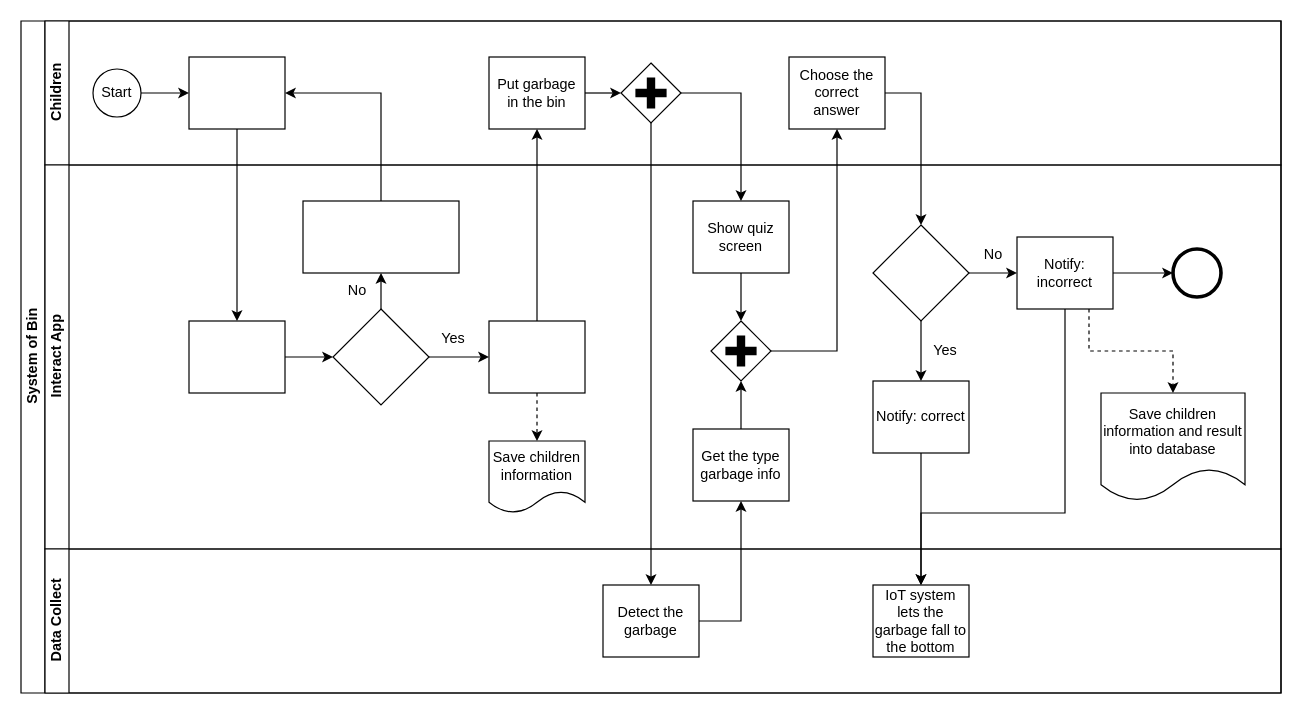
This 1302x714 diagram has some shape labels left out. Each missing label, with the centre of its shape:
Detect the face: the point at 236,356
End: the point at 1196,272
is correct answer?: the point at 920,272
Notify detect successfully: the point at 536,356
Notify: detect unsuccessfully: the point at 380,236
Position the face in the camera frame: the point at 236,92
successful?: the point at 380,356
